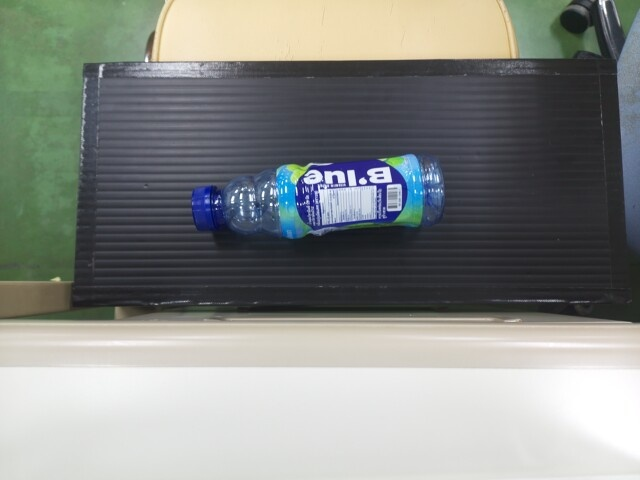plastic_bottle: (186, 162, 445, 234)
